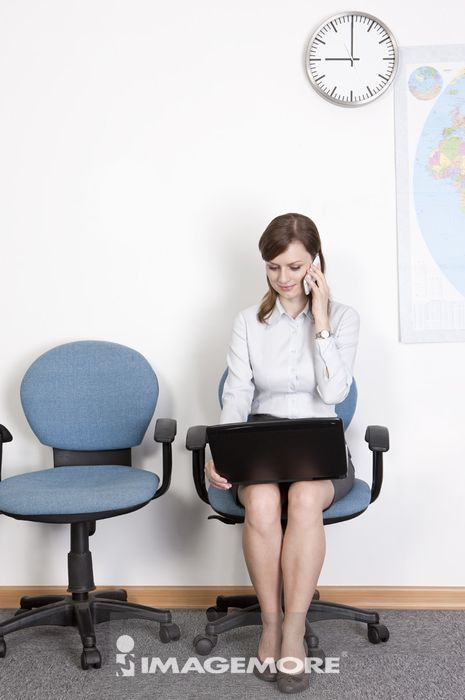phone: (302, 253, 322, 296)
talk: (263, 256, 329, 305)
